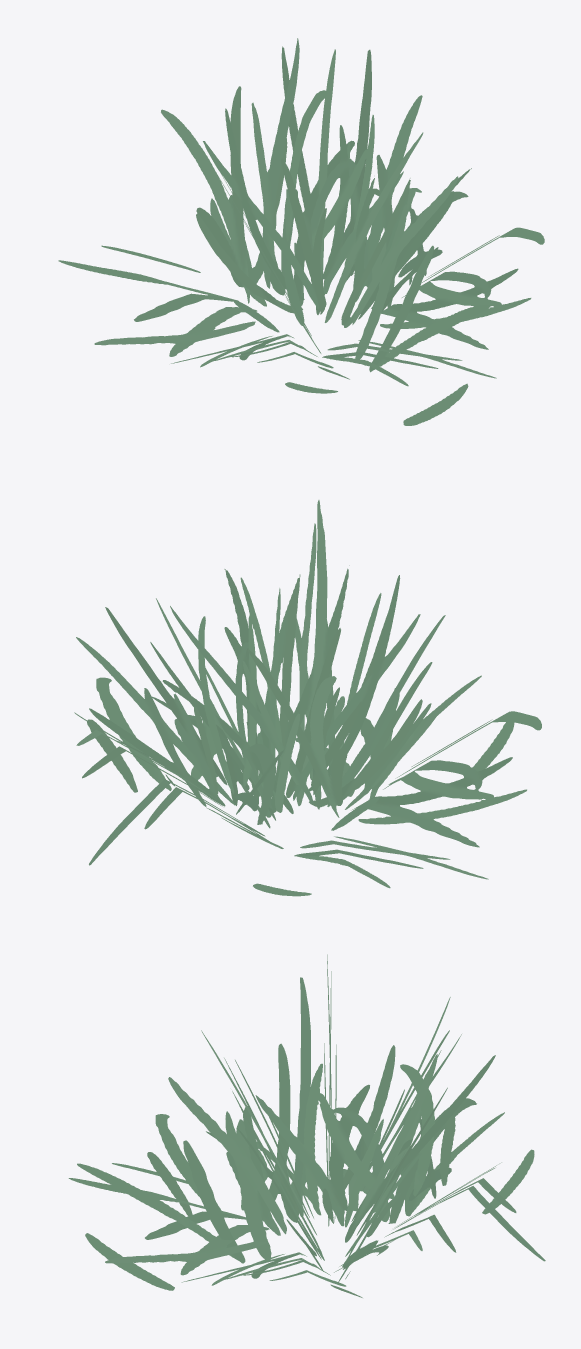
Rendered from fairy_finegrass_gloam_2.glb.
3 renders of one model, top to bottom at view 1: azimuth 30°, elevation 25°; view 2: azimuth 150°, elevation 25°; view 3: azimuth 270°, elevation 25°, orthographic. The views are drawn at different scales.
Visible parts, largest first — view 1: fairy_finegrass_gloam_2; view 2: fairy_finegrass_gloam_2; view 3: fairy_finegrass_gloam_2.
Part boxes in pixels (bbox=[...]): fairy_finegrass_gloam_2: bbox=[58, 38, 544, 425]; fairy_finegrass_gloam_2: bbox=[74, 500, 541, 896]; fairy_finegrass_gloam_2: bbox=[68, 954, 545, 1297].
Bounding box in the file's own units: 0.5332 × 0.3621 × 0.5533.
1 material, 1 textured.
